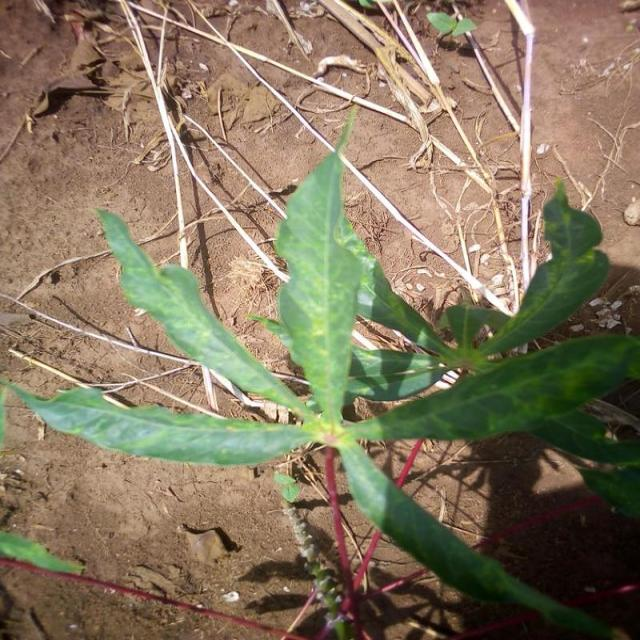cassava leaf: (2, 103, 640, 636), (93, 205, 317, 423), (273, 102, 366, 422)
